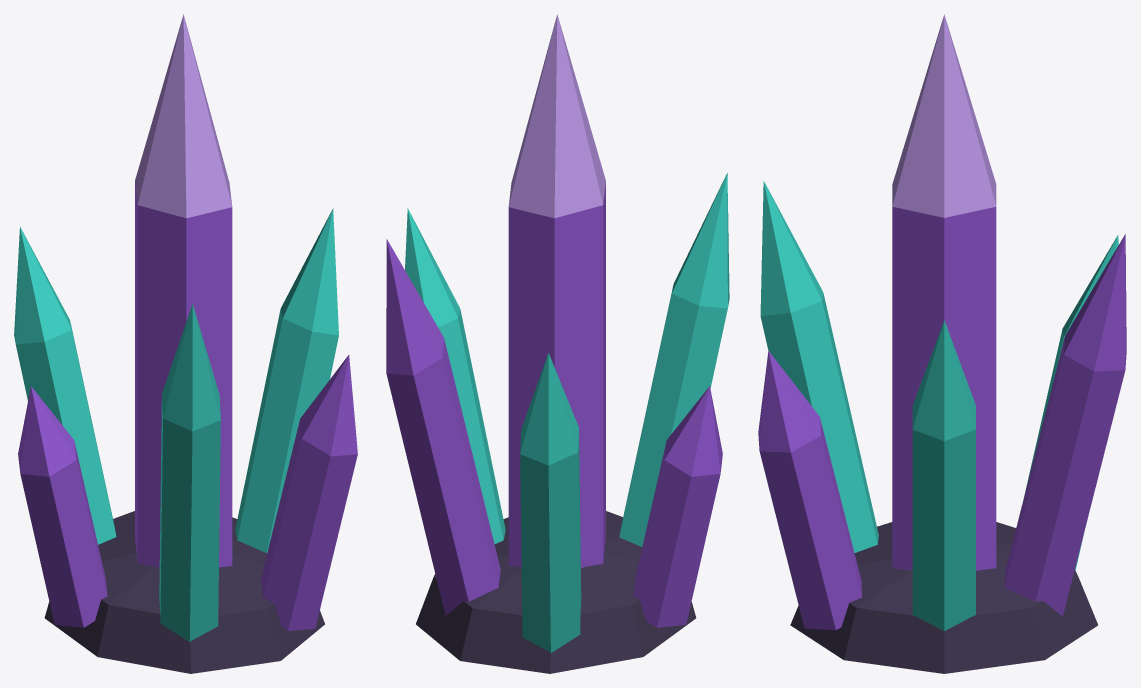
The model's file is env_r12_giant_crystal_formation.glb.
3 views of the same model, side by side, from view 1: azimuth 30°, elevation 25°; view 2: azimuth 150°, elevation 25°; view 3: azimuth 270°, elevation 25° (orthographic).
Visible parts, largest first — view 1: env_r12_giant_crystal_formation; view 2: env_r12_giant_crystal_formation; view 3: env_r12_giant_crystal_formation.
Part boxes in pixels (left/top/right/bottom): env_r12_giant_crystal_formation: left=14, top=14, right=357, bottom=673; env_r12_giant_crystal_formation: left=386, top=14, right=729, bottom=673; env_r12_giant_crystal_formation: left=758, top=14, right=1126, bottom=673.
Bounding box in the file's own units: 5 × 9 × 5.
1 material, 1 textured.
